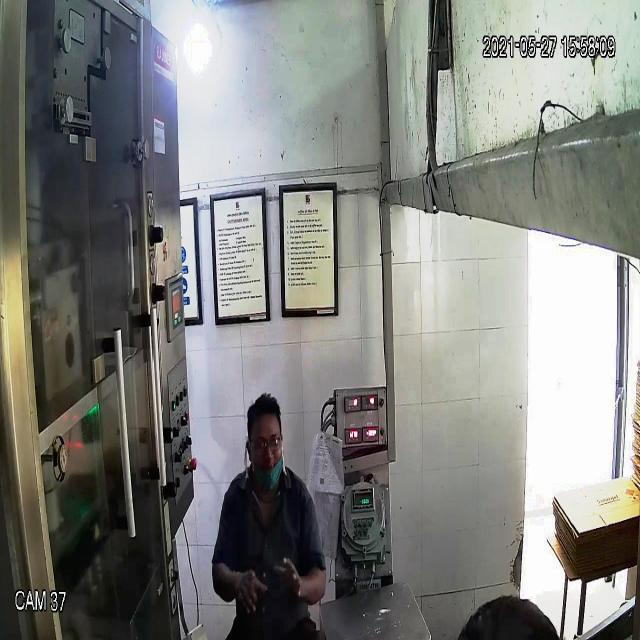glasses: (242, 431, 289, 463)
